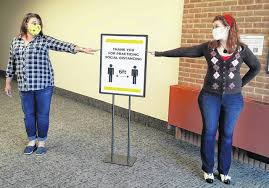Good: (4, 11, 262, 185)
